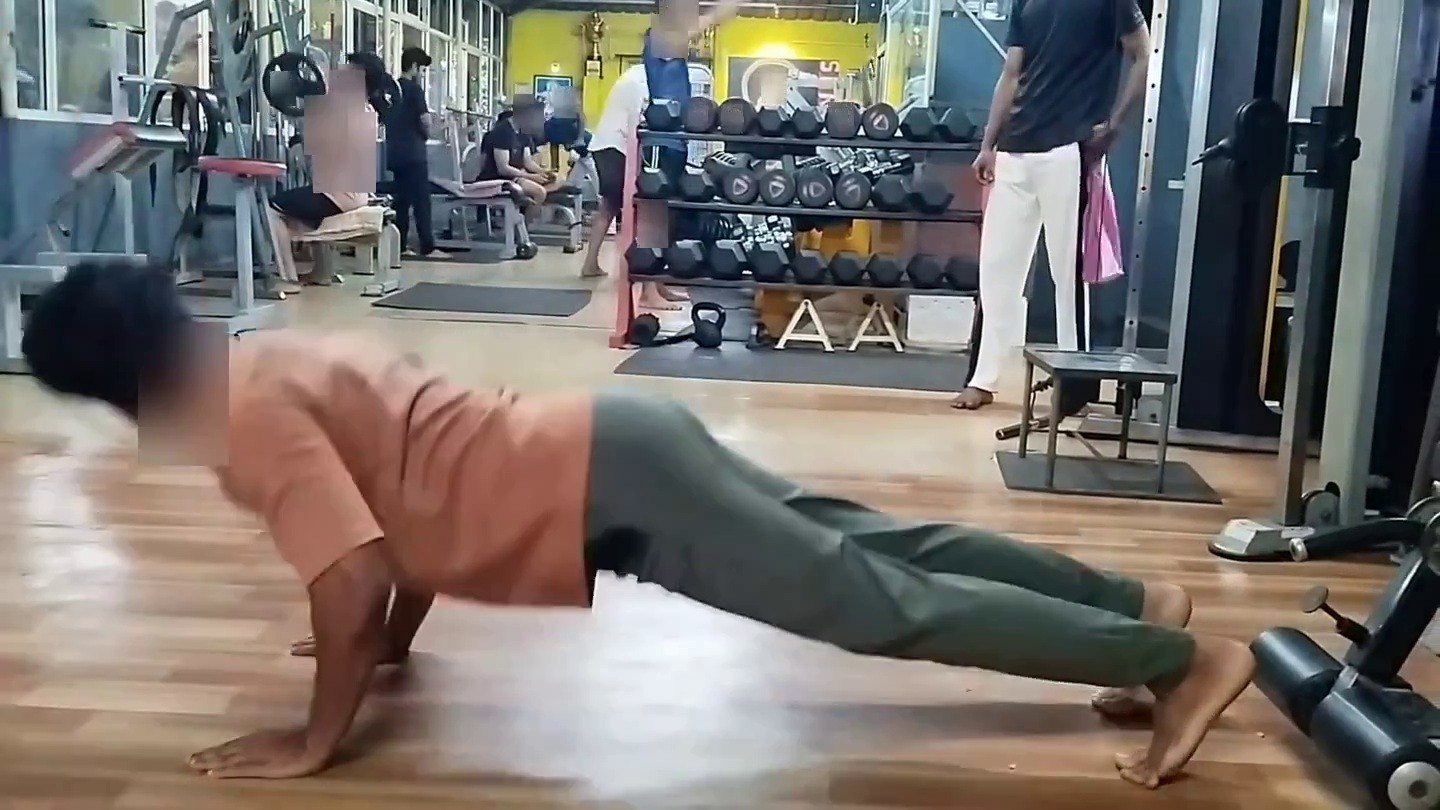push_up_correct: (0, 243, 1373, 810)
